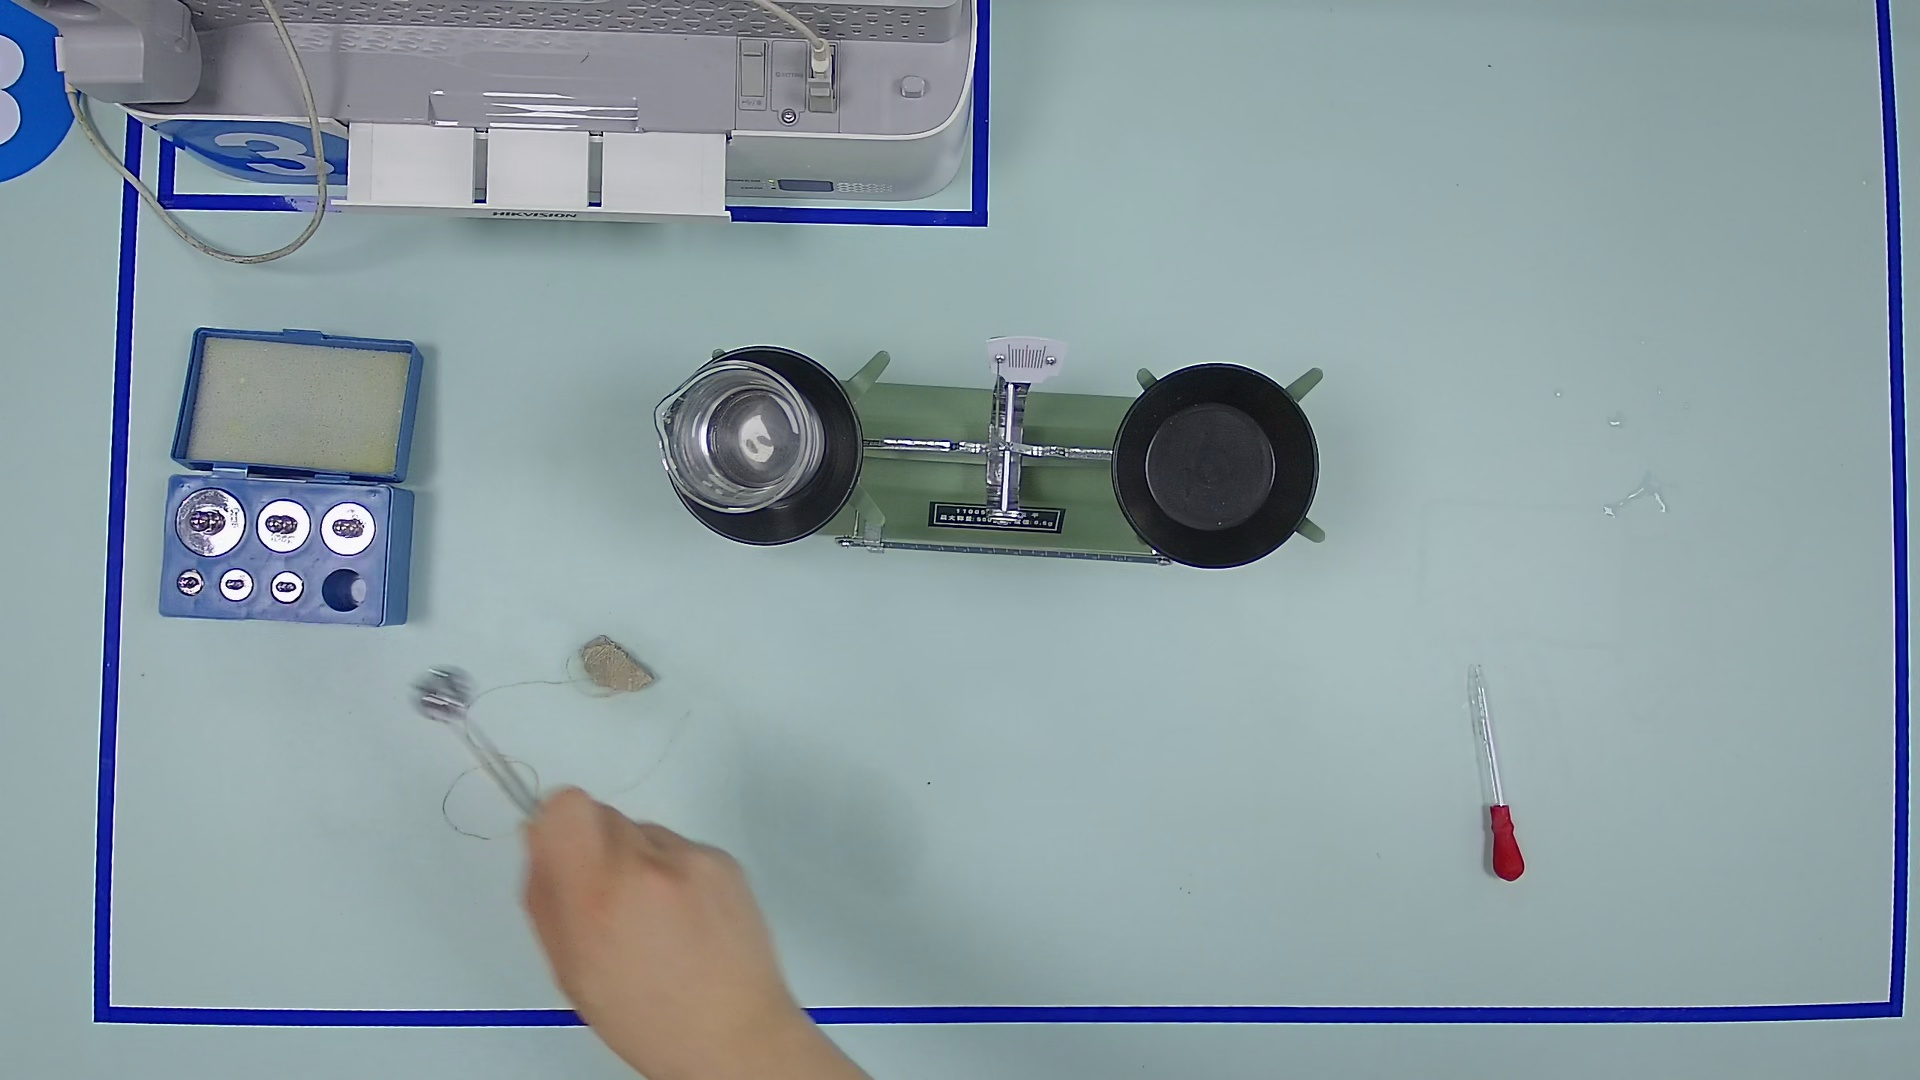bei: (642, 349, 837, 527)
diguan: (1435, 651, 1545, 887)
diguantou: (1477, 802, 1528, 886)
fama: (174, 485, 247, 560), (318, 500, 378, 556), (255, 497, 313, 553), (218, 566, 256, 603), (269, 570, 305, 604), (174, 568, 204, 596)
gan: (831, 514, 1168, 587)
hand: (485, 756, 804, 1055)
he: (117, 450, 430, 640)
niezi: (438, 708, 574, 874)
pointer: (986, 335, 1063, 381)
shi: (578, 630, 659, 708)
tuo: (1091, 338, 1342, 596), (658, 331, 882, 560)
you: (855, 508, 893, 560)
